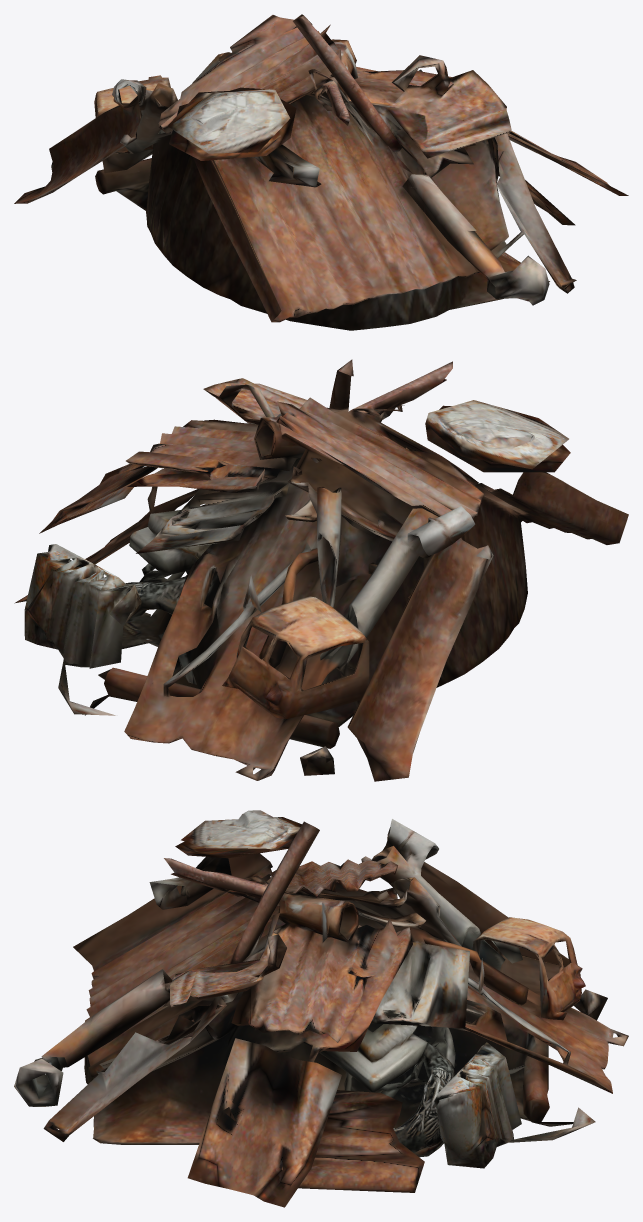
The model's file is scrap_heap.glb.
3 views of the same model, one above another, from view 1: azimuth 30°, elevation 25°; view 2: azimuth 150°, elevation 25°; view 3: azimuth 270°, elevation 25° (orthographic). The views are drawn at different scales.
Parts seen in each view (by area): view 1: tripo_node_d4c1e963-3ee1-4b1d-951d-c118f57260ab; view 2: tripo_node_d4c1e963-3ee1-4b1d-951d-c118f57260ab; view 3: tripo_node_d4c1e963-3ee1-4b1d-951d-c118f57260ab.
Part boxes in pixels (box(x1,y1,x2,y2)): tripo_node_d4c1e963-3ee1-4b1d-951d-c118f57260ab: box(14, 14, 628, 330); tripo_node_d4c1e963-3ee1-4b1d-951d-c118f57260ab: box(14, 359, 628, 781); tripo_node_d4c1e963-3ee1-4b1d-951d-c118f57260ab: box(14, 810, 628, 1207).
Size of the model in its own units: 0.8615 by 0.435 by 0.9608.
1 material, 1 textured.
